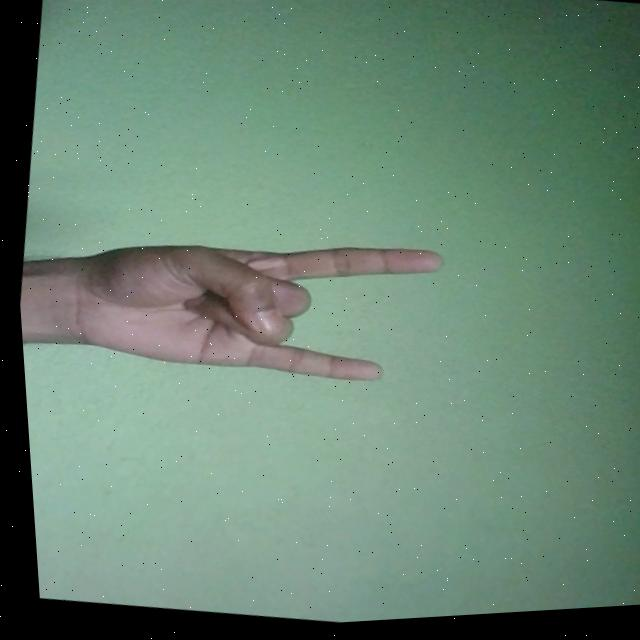Rock On: (45, 204, 448, 410)
